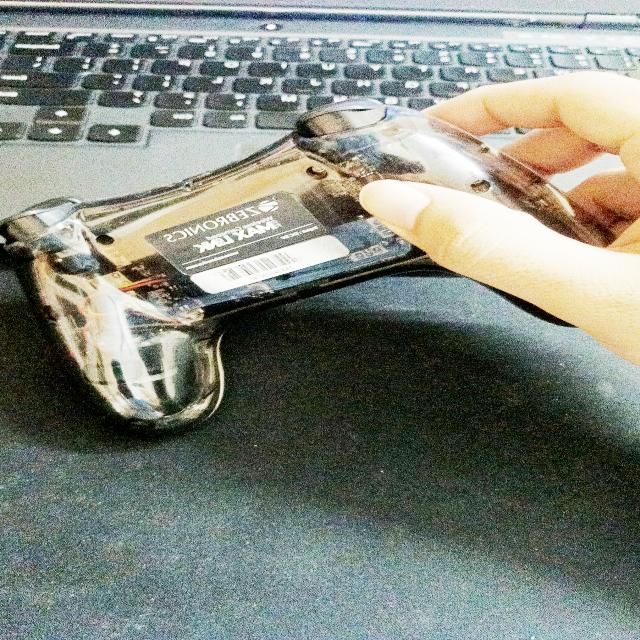gamepad: (0, 98, 611, 434)
